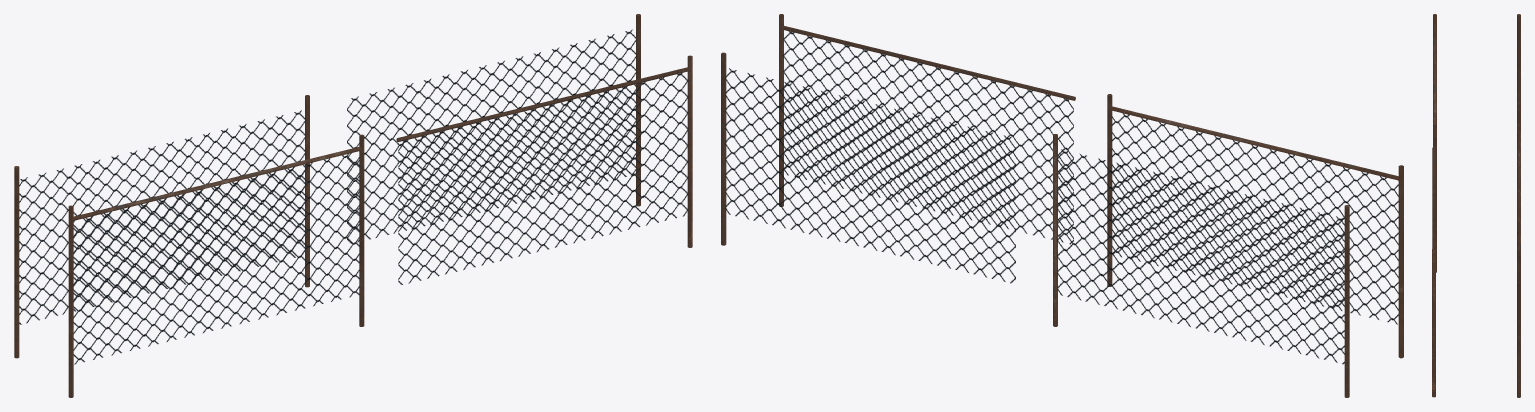
Rendered from psx_style_chain_fence.glb.
The picture shows the model from 3 angles, left to right: view 1: azimuth 30°, elevation 25°; view 2: azimuth 150°, elevation 25°; view 3: azimuth 270°, elevation 25°; orthographic projection. The views are drawn at different scales.
Visible parts, largest first — view 1: TexturesCom_MetalVarious0026_1_seamless_S.002_31, Cylinder.004_33, Cylinder_30, Cylinder.001_32; view 2: TexturesCom_MetalVarious0026_1_seamless_S.002_31, Cylinder_30, Cylinder.001_32, Cylinder.004_33; view 3: Cylinder.004_33, Cylinder_30, TexturesCom_MetalVarious0026_1_seamless_S.002_31, Cylinder.001_32.
Part boxes in pixels (left/top/right/bottom): TexturesCom_MetalVarious0026_1_seamless_S.002_31: left=68, top=134, right=364, bottom=397; Cylinder.004_33: left=396, top=55, right=692, bottom=284; Cylinder_30: left=14, top=95, right=309, bottom=358; Cylinder.001_32: left=347, top=14, right=640, bottom=243; TexturesCom_MetalVarious0026_1_seamless_S.002_31: left=1107, top=94, right=1403, bottom=358; Cylinder_30: left=1053, top=134, right=1349, bottom=397; Cylinder.001_32: left=721, top=52, right=1015, bottom=283; Cylinder.004_33: left=779, top=14, right=1075, bottom=244; Cylinder.004_33: left=1432, top=146, right=1435, bottom=397; Cylinder_30: left=1517, top=14, right=1520, bottom=249; TexturesCom_MetalVarious0026_1_seamless_S.002_31: left=1433, top=14, right=1436, bottom=272; Cylinder.001_32: left=1517, top=249, right=1520, bottom=397.
Bounding box in the file's own units: 5.73 × 1.67 × 0.9078.
2 materials, 2 textured.
